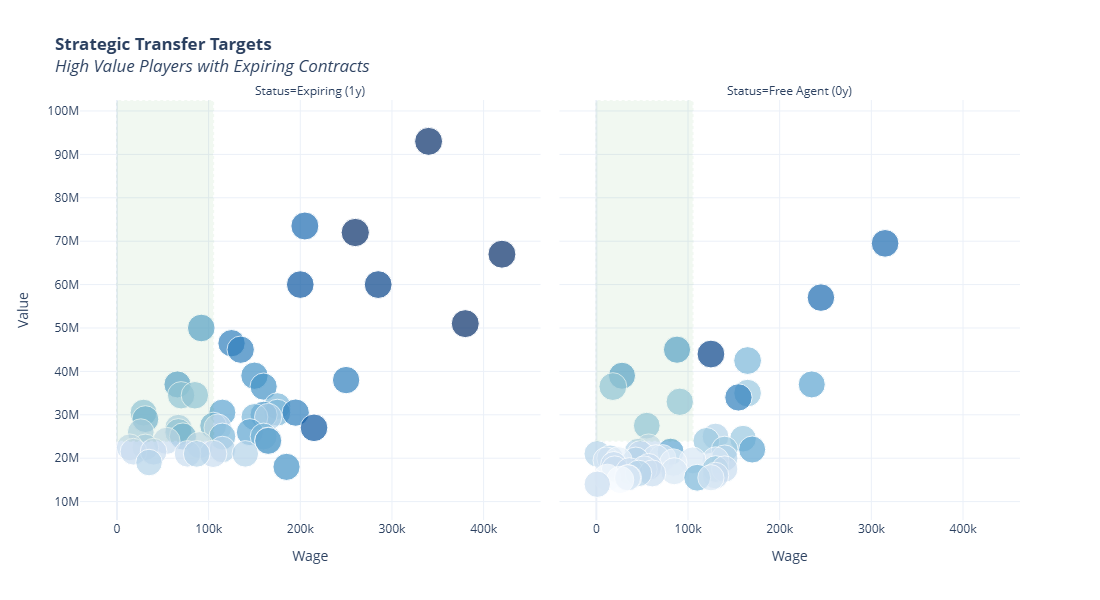

The dashboard page shown, as its layout file describes it:
{"tool":"tableau","page":{"name":"Dashboard 2","canvas":[1600,1400],"ordinal":1},"visuals":[{"type":"text","box":[8,8,1584,47]},{"type":"worksheet","title":"Sheet 5","mark":"Circle","rows":["Value"],"cols":["Overall"],"box":[35.7,86,1373.5,370]},{"type":"legend","title":"Sheet 5","param":"[federated.1cqac820ikebnm186rpzj12zc9kl].[sum:Player_Count:qk]","box":[1415,98,172,163]},{"type":"legend","title":"Sheet 5","param":"[federated.1cqac820ikebnm186rpzj12zc9kl].[none:Nationality_Region:nk]","box":[1418,273,172,231]},{"type":"worksheet","title":"Sheet 7","mark":"Circle","rows":["Potential","Calculation_0001124569501786"],"cols":["Overall"],"box":[33.2,460,881.2,431]},{"type":"worksheet","title":"Sheet 9","mark":"Automatic","rows":["Name"],"cols":["ROI_Score"],"box":[914.5,460,674.5,431]},{"type":"legend","title":"Sheet 7","param":"[federated.1ygm3x81o9iil918e2bis1497max].[sum:Value:qk]","box":[734.8,664,172.3,137]},{"type":"legend","title":"Sheet 7","param":"[federated.1ygm3x81o9iil918e2bis1497max].[sum:Growth:qk]","box":[732.3,738,172.3,82]},{"type":"worksheet","title":"Sheet 8","mark":"Line","rows":["Player_Label"],"cols":["Pivot Field Values","Pivot Field Values"],"box":[34.5,895,1554.5,508]},{"type":"legend","title":"Sheet 8","param":"[federated.004vigk00fgmka13g8py21v3y0y8].[none:Pivot Field Names:nk]","box":[1414,904,172,64]}]}

Visuals, with their boxes on the page's 1600x1400 design canvas (x1, y1, x2, y2). These are canvas units, not pixel positions in the 1100x600 screenshot, which may show the page scaled, cropped or inside an application window:
text: 8, 8, 1592, 55
"Sheet 5" worksheet (Circle marks): 36, 86, 1409, 456
"Sheet 5" legend: 1415, 98, 1587, 261
"Sheet 5" legend: 1418, 273, 1590, 504
"Sheet 7" worksheet (Circle marks): 33, 460, 914, 891
"Sheet 9" worksheet: 914, 460, 1589, 891
"Sheet 7" legend: 735, 664, 907, 801
"Sheet 7" legend: 732, 738, 905, 820
"Sheet 8" worksheet (Line marks): 34, 895, 1589, 1403
"Sheet 8" legend: 1414, 904, 1586, 968
